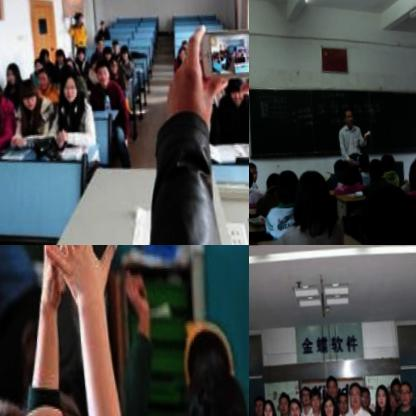head: (177, 304, 241, 391), (186, 355, 249, 416), (358, 180, 416, 245), (293, 167, 334, 223), (276, 168, 305, 207), (16, 76, 40, 110), (60, 71, 83, 104), (225, 74, 248, 107), (94, 57, 113, 85), (345, 164, 365, 190), (266, 169, 284, 196), (379, 149, 397, 175), (369, 157, 387, 182), (276, 388, 292, 416), (2, 57, 19, 83), (347, 380, 363, 407), (375, 382, 390, 409), (309, 385, 322, 412), (397, 380, 412, 403), (389, 376, 403, 400), (357, 384, 371, 407), (334, 156, 350, 176), (106, 53, 121, 74), (343, 106, 358, 127), (249, 158, 262, 182), (358, 151, 372, 173), (385, 389, 399, 411), (322, 393, 335, 416), (326, 373, 339, 396), (36, 66, 50, 87), (63, 53, 77, 74), (287, 397, 302, 416), (253, 394, 266, 415), (336, 389, 349, 410), (31, 51, 46, 69), (261, 398, 276, 416), (53, 41, 65, 63), (408, 154, 416, 186), (88, 51, 101, 70), (298, 385, 311, 403), (37, 46, 50, 63), (93, 33, 106, 50), (177, 40, 188, 60), (249, 163, 255, 193), (74, 43, 84, 60), (120, 41, 129, 58), (110, 35, 120, 49), (74, 7, 83, 21), (103, 44, 112, 58), (98, 16, 107, 28), (180, 35, 189, 47), (413, 384, 416, 407)
